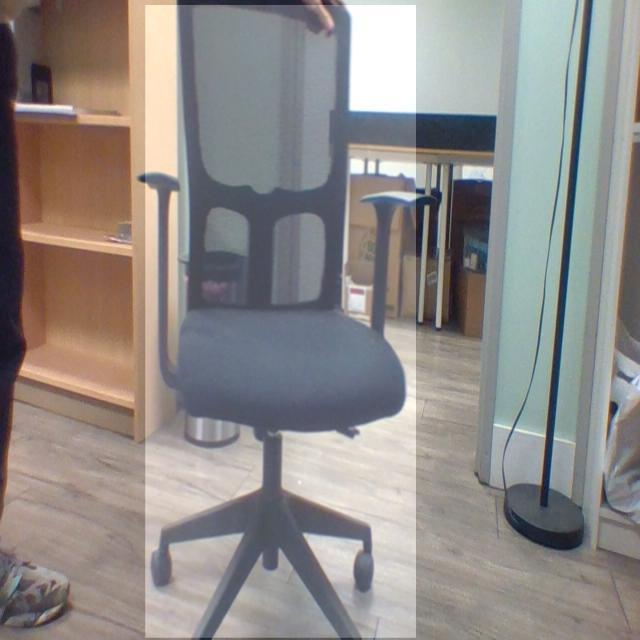chair: (141, 0, 428, 640)
